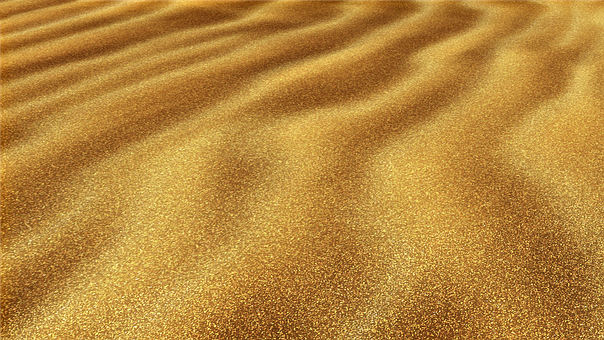desert: (4, 6, 604, 339)
